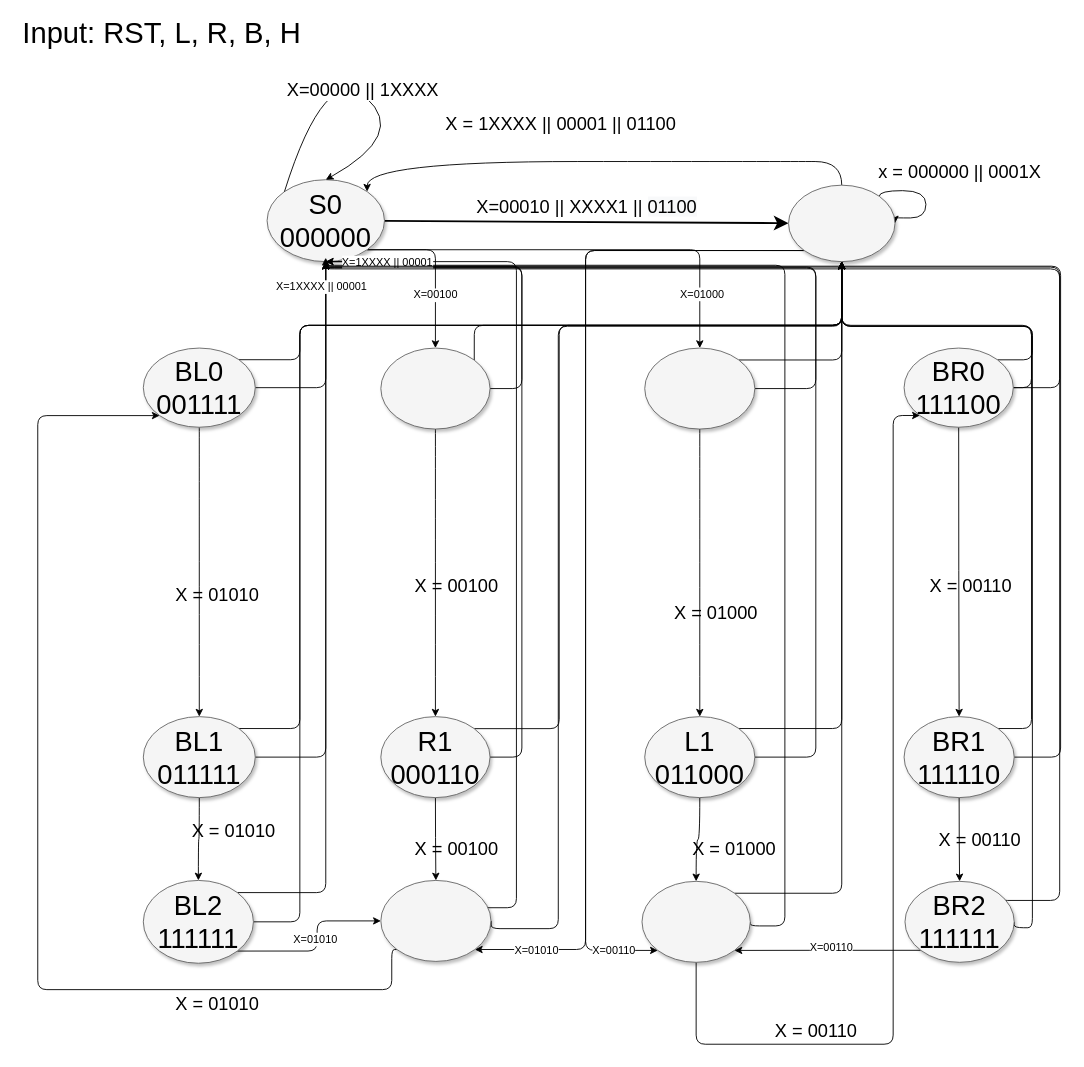
Image size: 1084x1067. Some labels were removed from this diagram. Each missing label, with the centre of its shape:
"L0 001000" goes at [700,389].
"L2 111000" goes at [696,923].
"R0 000100" goes at [435,389].
"R2 000111" goes at [436,922].
"S1 111111" goes at [842,224].
